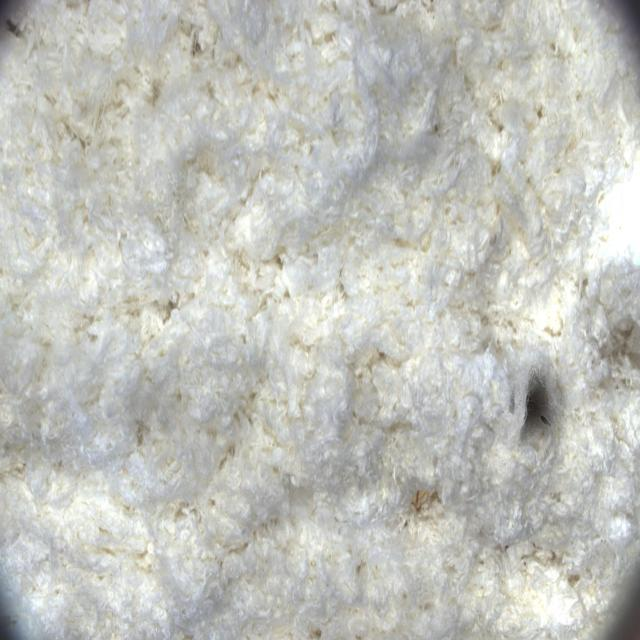dust: (491, 343, 591, 465)
